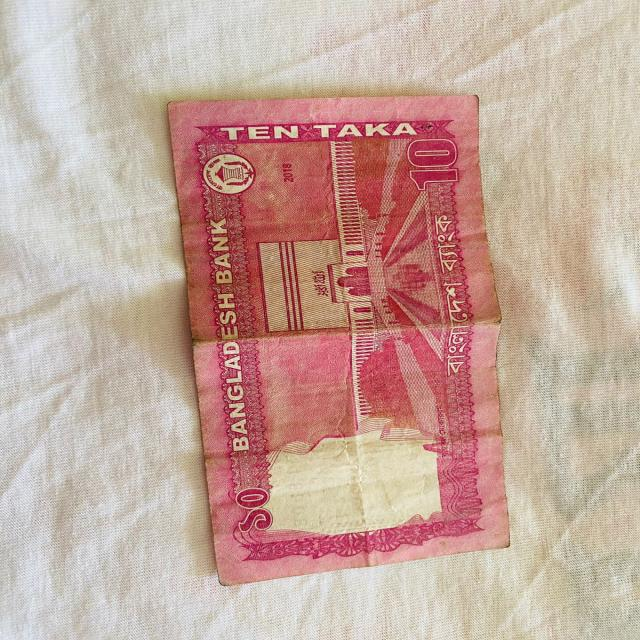Taka: (171, 80, 512, 585)
